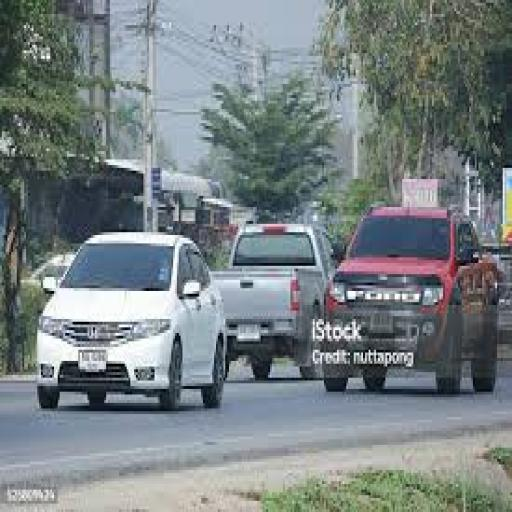License: (75, 340, 109, 376), (234, 316, 268, 348), (361, 315, 400, 338)
